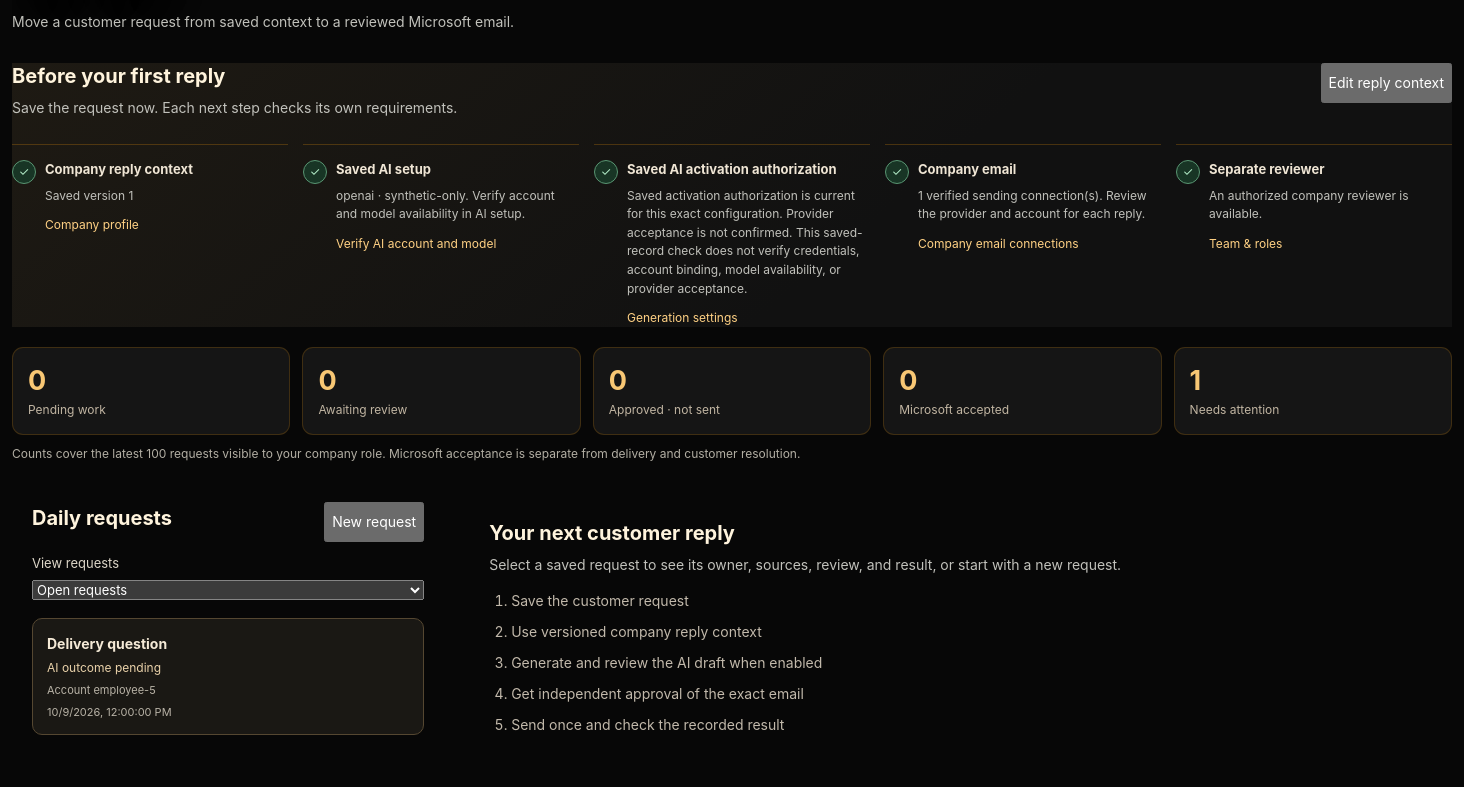
Test: pinned AI requests and exact reviewed email › never offers a replacement for an existing reserved AI outcome
The image size is (1464, 787).
(page scrolled)
Click the button "Delivery question" at [107, 644], box [32,618,424,735]
(page scrolled)
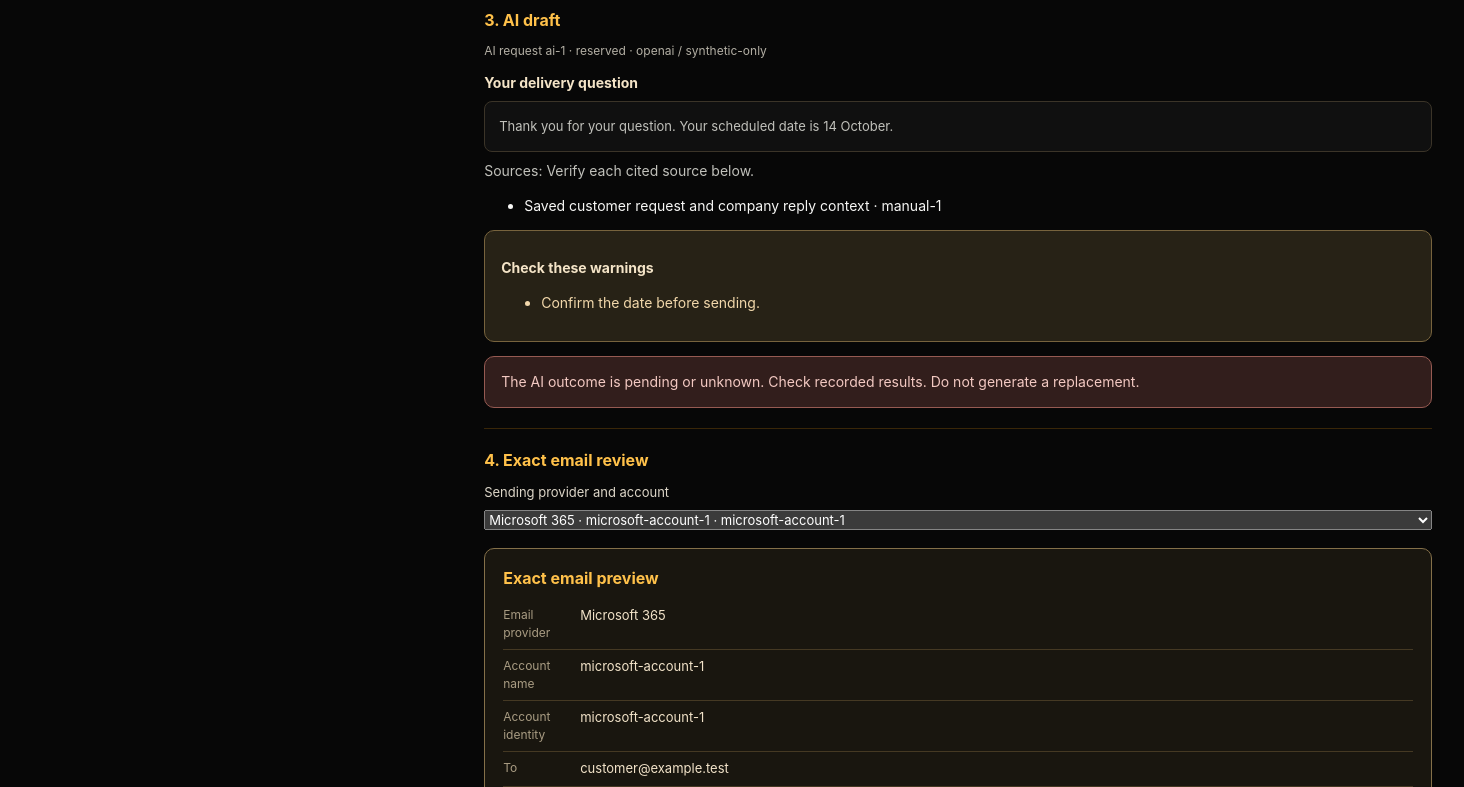
Now the text "AI outcome is pending or unknown" is shown, box [501,373,1140,390]
